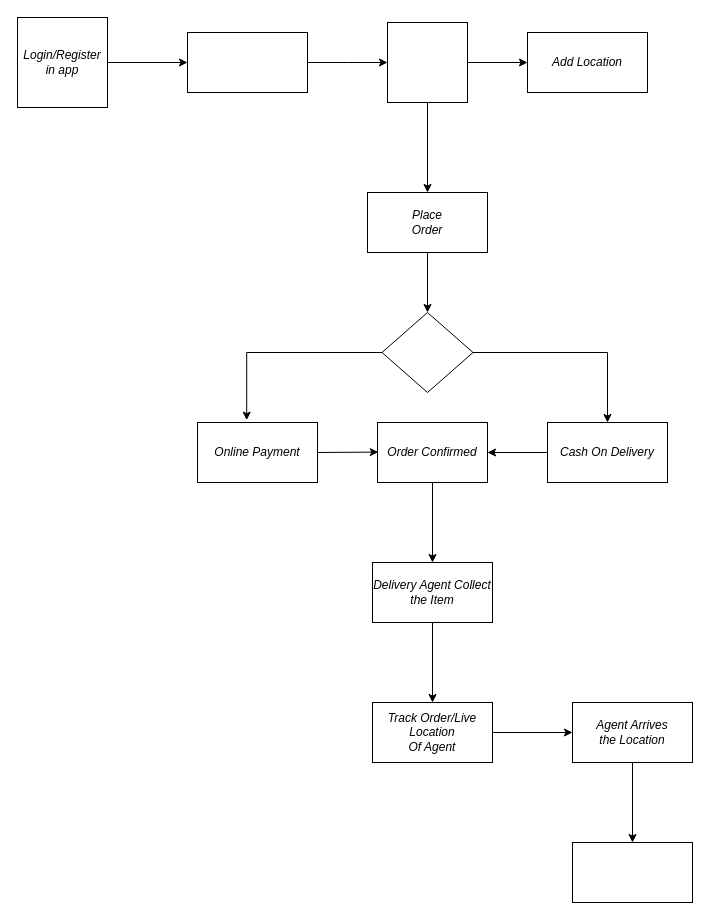
The diagram is 710 pixels wide and 920 high, and some of its shapes have lost their labels. The centre of each missing label's shape, as x and y in pixels:
"Order Delivered" goes at [632,872].
"Payment Method" goes at [427,352].
"View all nearby Restaurants" goes at [247,62].
"View items & add to cart" goes at [427,62].
